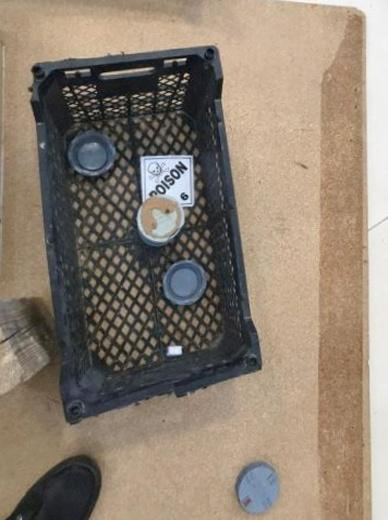poison: (138, 150, 195, 213)
